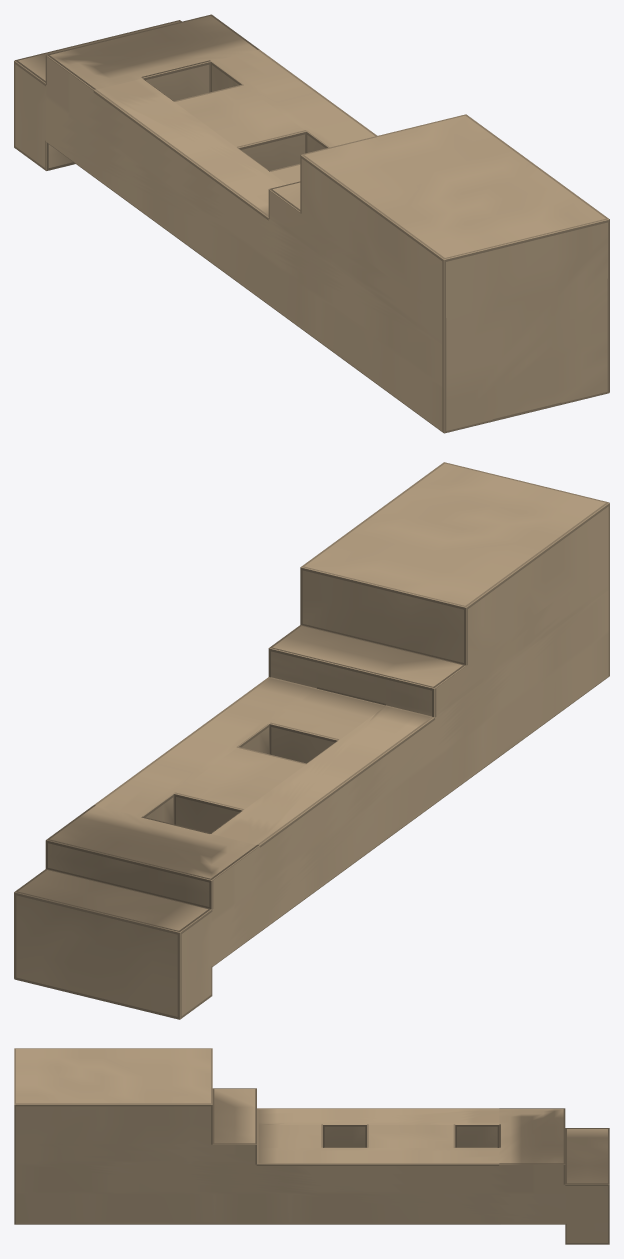
3 views of the same model, one above another, from view 1: azimuth 30°, elevation 25°; view 2: azimuth 150°, elevation 25°; view 3: azimuth 270°, elevation 25° (orthographic). The views are drawn at different scales.
Visible parts, largest first — view 1: part-b; view 2: part-b; view 3: part-b.
Boxes of the visible parts, x1=… form: part-b: x1=14, y1=14, x2=609, y2=433; part-b: x1=14, y1=462, x2=609, y2=1019; part-b: x1=14, y1=1048, x2=609, y2=1244.
Size of the model in its own units: 0.1208 by 0.1408 by 0.5408.
